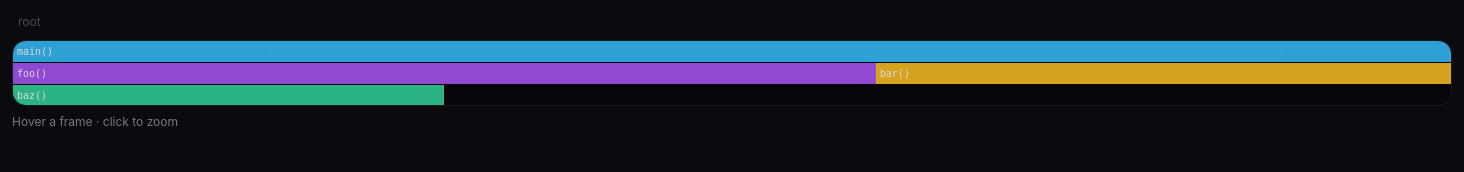
FlameGraph › shows breadcrumbs after clicking a zoomable frame
Expected: the button "root" is disabled, top-left (12, 12), bottom-right (47, 32)
Click the button titled "main()" at x=35, y=52, box top-left (13, 41), bottom-right (1451, 62)
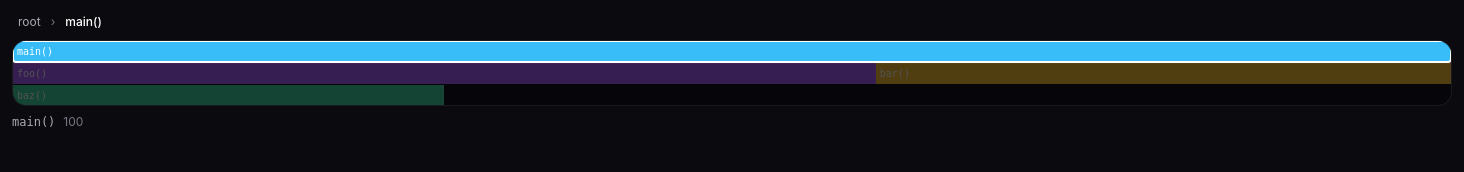
Expected: the button "root" is enabled, top-left (12, 12), bottom-right (47, 32)
